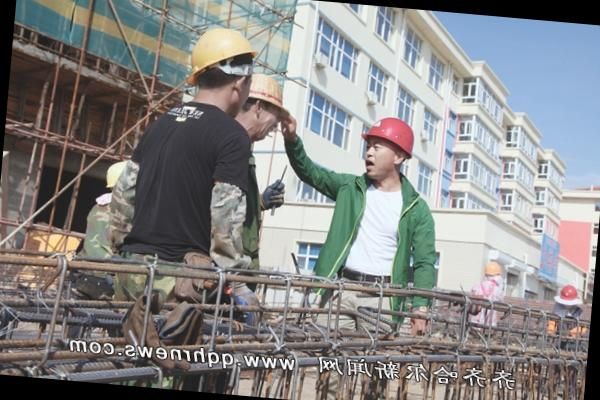helmet: (178, 21, 263, 82), (359, 112, 426, 157), (244, 74, 292, 114), (556, 282, 579, 302), (481, 258, 503, 276)
no_wear: (102, 106, 255, 272), (328, 174, 436, 280)
